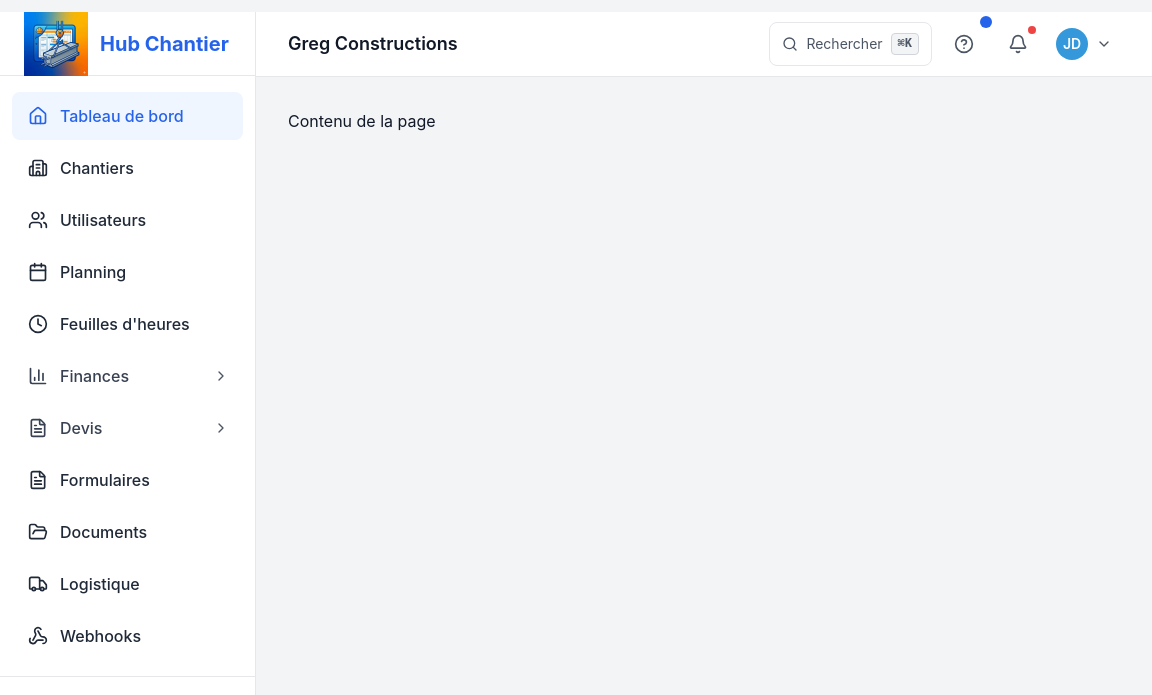
Test: Layout › Notifications › ouvre le panneau de notifications au clic
Click the button named "Notifications". click: click(1018, 44)
box: [996, 22, 1040, 66]
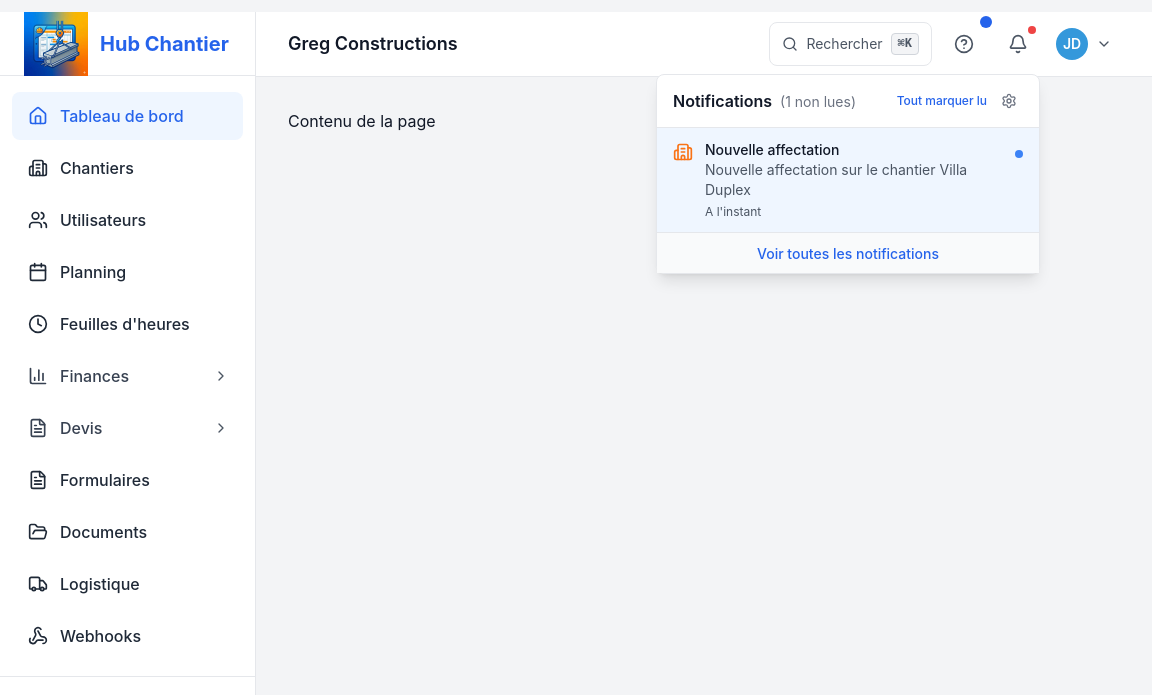
Check: the heading "Notifications(1 non lues)" is shown, box [673, 89, 856, 113]
Check: the text "Nouvelle affectation sur le chantier Villa Duplex" is shown, box [705, 160, 1003, 200]
